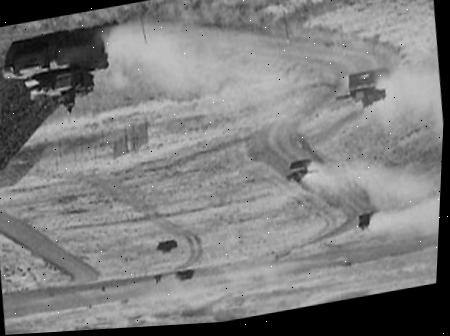tank: (0, 21, 116, 111), (330, 66, 387, 113), (282, 156, 318, 182), (149, 233, 179, 257), (352, 210, 373, 235), (169, 267, 193, 284)
